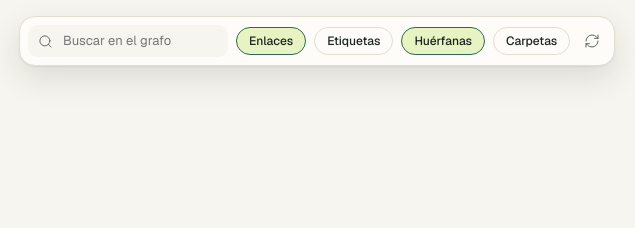
Test case: GraphFilterPanel folders › opens a tree with Bóveda first, no hidden folders, collapsed subfolders
Click the button with test id "toggle-folders": [532, 41] box [493,27,570,55]
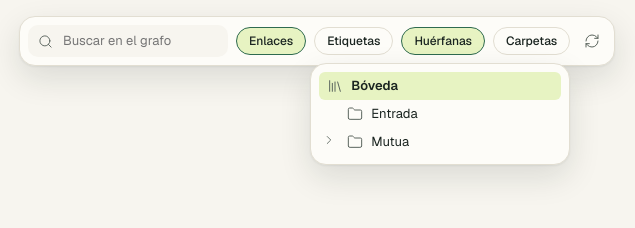
Now the list item with test id "folder-option-root" reads "Bóveda", box [319,72,561,100]
Now the list item with test id "folder-option-Entrada" is shown, box [339,100,561,128]
Click the button with test id "folder-toggle-Mutua": [329, 142] box [319,128,339,156]
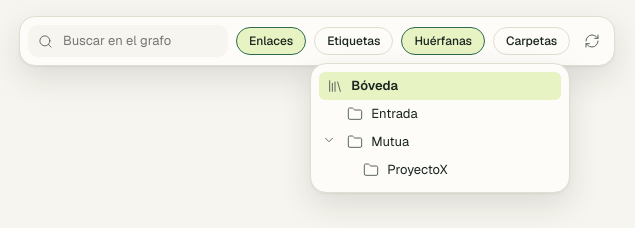
Now the list item with test id "folder-option-Mutua/ProyectoX" is shown, box [355,156,561,184]
